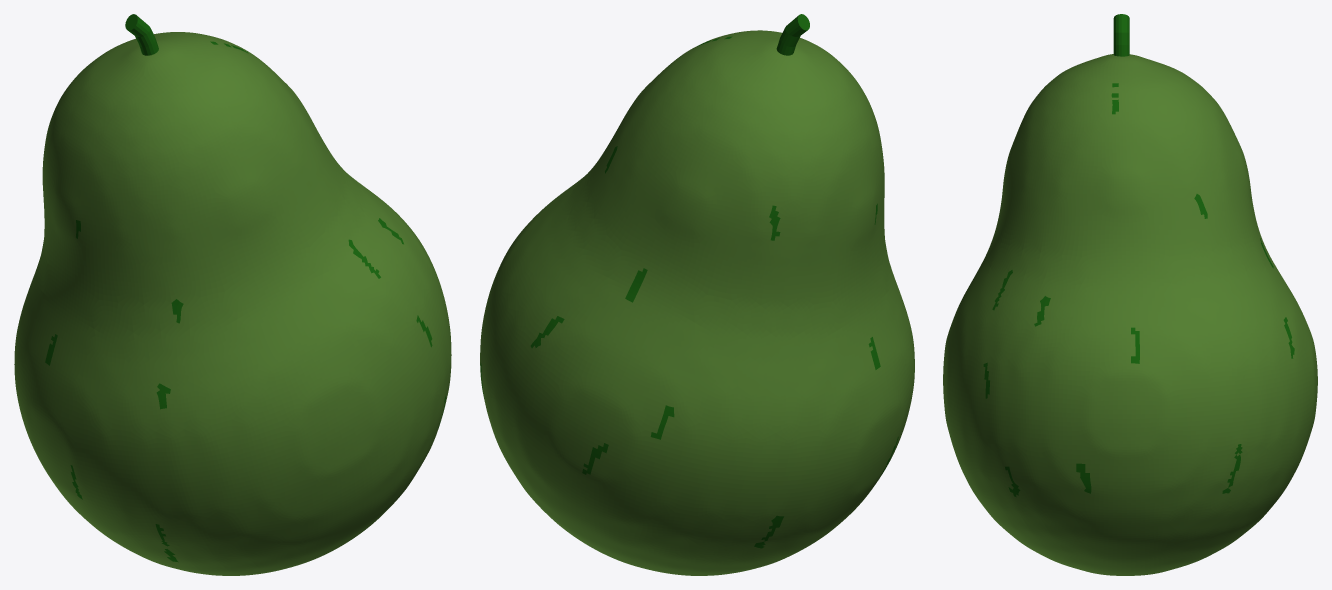
The model's file is avocado.fbx.
The picture shows the model from 3 angles, left to right: view 1: azimuth 30°, elevation 25°; view 2: azimuth 150°, elevation 25°; view 3: azimuth 270°, elevation 25°; orthographic projection. The views are drawn at different scales.
Parts seen in each view (by area): view 1: Sphere.001; view 2: Sphere.001; view 3: Sphere.001.
Part boxes in pixels (x1,y1,x2,y2): Sphere.001: (14,14,451,575); Sphere.001: (480,14,914,575); Sphere.001: (943,14,1317,575).
Size of the model in its own units: 198 by 281 by 191.
